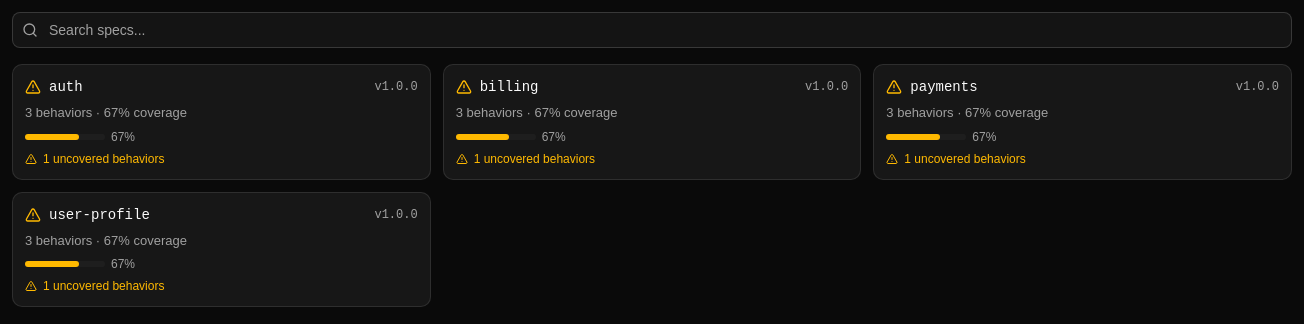
Test: SpecCardGrid › filter-specs-by-search › filters specs by name when user types in search
Expected: the text "auth" is shown, [49,77,83,97]
Expected: the text "billing" is shown, [480,77,538,97]
In the field with placeholder "Search specs...": point(652, 30) [12,12,1292,48], type "bill"
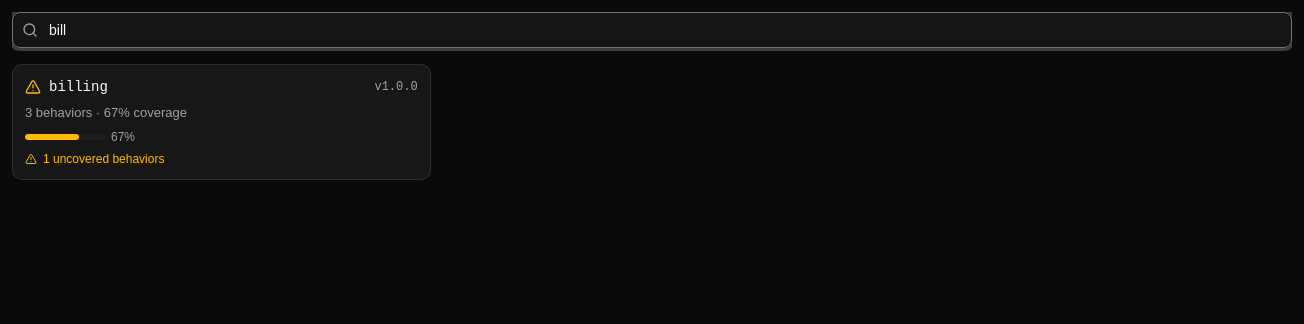
Expected: the text "billing" is shown, [49,77,108,97]
Expected: the button "auth" is gone
Expected: the button "payments" is gone
